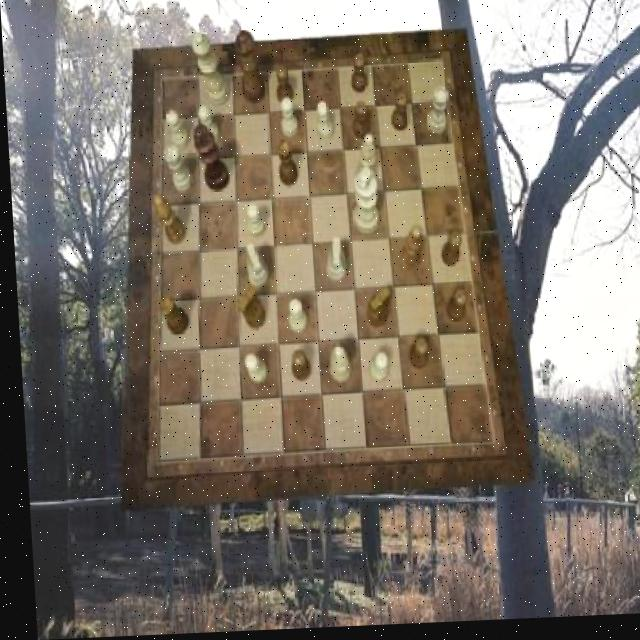bishop: (150, 194, 183, 247), (394, 229, 420, 277)
black-bishop: (192, 125, 228, 193)
black-king: (233, 287, 262, 332), (361, 292, 387, 332)
black-knight: (436, 234, 458, 271), (441, 294, 465, 327), (273, 69, 292, 109), (348, 104, 367, 143), (389, 97, 408, 135), (349, 58, 367, 97), (403, 341, 424, 374), (285, 351, 306, 384)
black-pawn: (233, 31, 264, 107)
black-queen: (153, 297, 185, 338), (276, 142, 297, 190)
black-rook: (352, 138, 374, 191), (324, 347, 346, 386)
white-bishop: (347, 171, 376, 239)
white-king: (242, 243, 265, 290), (320, 240, 343, 285)
white-knight: (165, 112, 187, 153), (196, 107, 218, 147), (239, 354, 263, 386), (278, 101, 297, 141), (243, 203, 262, 239), (283, 301, 302, 336), (313, 104, 330, 143), (364, 355, 385, 386)
white-pawn: (190, 32, 229, 108)
white-queen: (162, 146, 191, 194), (422, 91, 449, 137)
